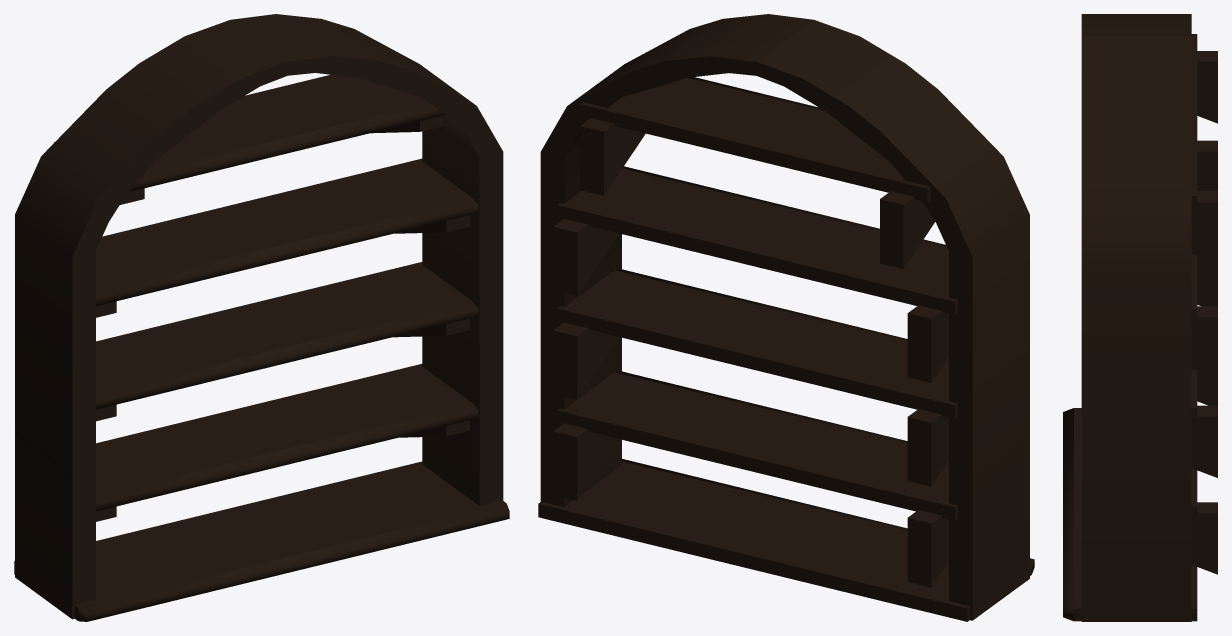
File: Estanteria.fbx
3 views of the same model, side by side, from view 1: azimuth 30°, elevation 25°; view 2: azimuth 150°, elevation 25°; view 3: azimuth 270°, elevation 25° (orthographic). The views are drawn at different scales.
Visible parts, largest first — view 1: Estanteria_Soporte, Estanteria2, Estanteria3, Estanteria1, Estanteria4; view 2: Estanteria_Soporte, Estanteria2, Estanteria1, Estanteria3, Estanteria4; view 3: Estanteria_Soporte, Estanteria4, Estanteria3, Estanteria2, Estanteria1.
Part boxes in pixels (bbox=[...]): Estanteria_Soporte: bbox=[14, 14, 509, 621]; Estanteria2: bbox=[96, 262, 478, 421]; Estanteria3: bbox=[96, 158, 478, 317]; Estanteria1: bbox=[96, 364, 478, 521]; Estanteria4: bbox=[54, 74, 445, 204]; Estanteria_Soporte: bbox=[538, 14, 1034, 621]; Estanteria2: bbox=[553, 269, 957, 486]; Estanteria1: bbox=[553, 371, 957, 587]; Estanteria3: bbox=[553, 166, 957, 382]; Estanteria4: bbox=[580, 77, 935, 268]; Estanteria_Soporte: bbox=[1063, 14, 1197, 621]; Estanteria4: bbox=[1191, 34, 1217, 263]; Estanteria3: bbox=[1191, 140, 1217, 378]; Estanteria2: bbox=[1191, 256, 1217, 477]; Estanteria1: bbox=[1191, 371, 1217, 574].
Size of the model in its own units: 92.91 by 104 by 30.15.
